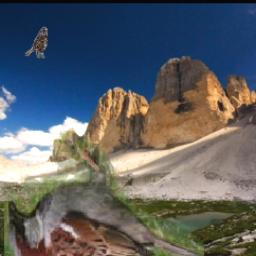Sparrow: (5, 132, 205, 256), (24, 26, 48, 58)
